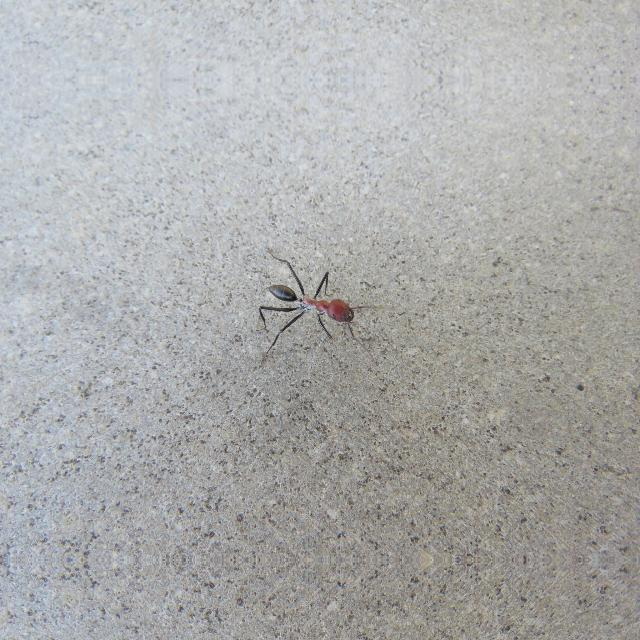Cataglyphis: (258, 264, 374, 338)
